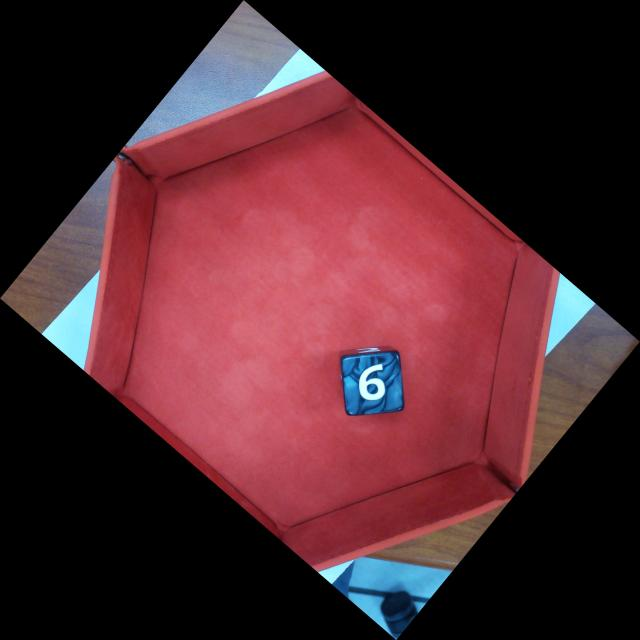dice: (340, 350, 405, 416)
